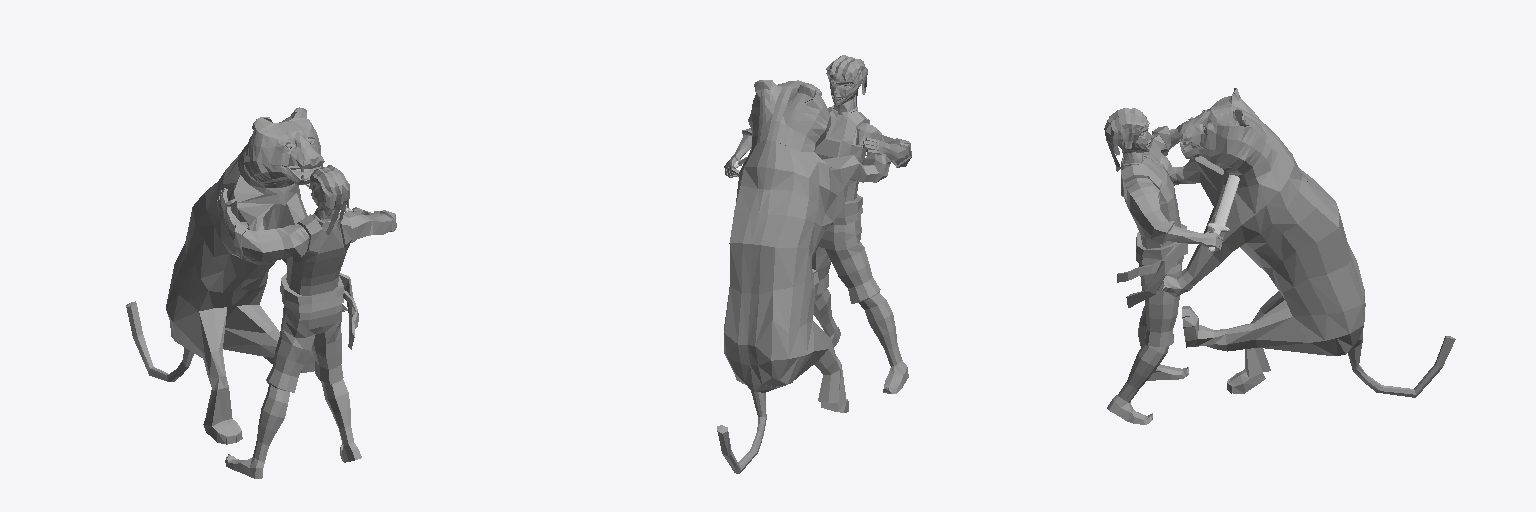
The model's file is tato-vefxi-low.obj.
The picture shows the model from 3 angles: view 1: azimuth 30°, elevation 25°; view 2: azimuth 150°, elevation 25°; view 3: azimuth 270°, elevation 25°; orthographic projection.
Visible parts, largest first — view 1: tiger_Cube, cloth_Cube.003, tarieli_Cube.001, hair_Cube.004; view 2: tiger_Cube, cloth_Cube.003, tarieli_Cube.001, hair_Cube.004; view 3: tiger_Cube, cloth_Cube.003, tarieli_Cube.001, hair_Cube.004, sword_Cube.002.
Boxes of the visible parts, <box> form: tiger_Cube: <box>126,107,347,444</box>; cloth_Cube.003: <box>234,210,396,392</box>; tarieli_Cube.001: <box>216,182,372,478</box>; hair_Cube.004: <box>309,165,349,234</box>; tiger_Cube: <box>717,80,890,473</box>; cloth_Cube.003: <box>742,104,911,303</box>; tarieli_Cube.001: <box>724,70,908,393</box>; hair_Cube.004: <box>826,55,867,106</box>; tiger_Cube: <box>1150,88,1455,397</box>; cloth_Cube.003: <box>1117,126,1187,346</box>; tarieli_Cube.001: <box>1107,117,1222,424</box>; hair_Cube.004: <box>1104,108,1149,171</box>; sword_Cube.002: <box>1207,174,1239,252</box>.
Size of the model in its own units: 0.7951 by 1.46 by 1.46.